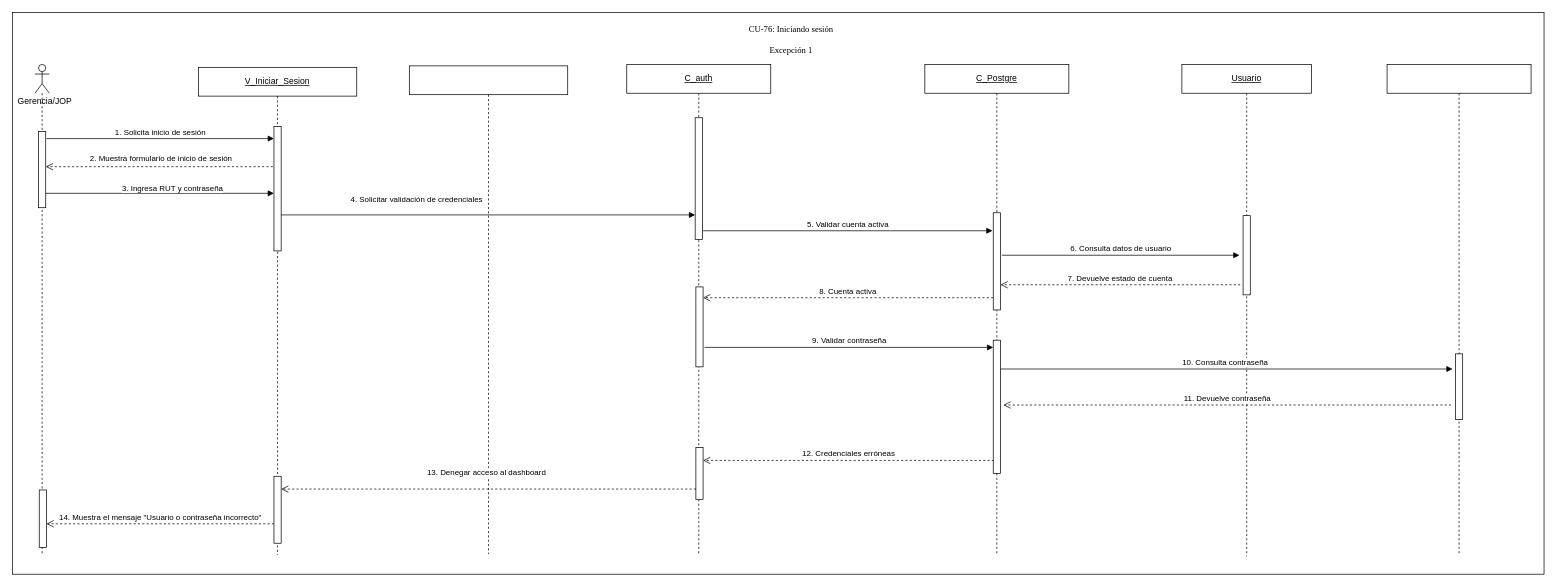
Some shapes in this 1557 by 587 pixel diagram are drawn without their labels. The shapes that lost their labels are listed below. From the top down, each one's box as (x1, y1, x2, y2) in pixels, then its label:
(409, 65, 568, 554): V_Dashboard
(1386, 64, 1531, 555): Usuario_Contraseña
